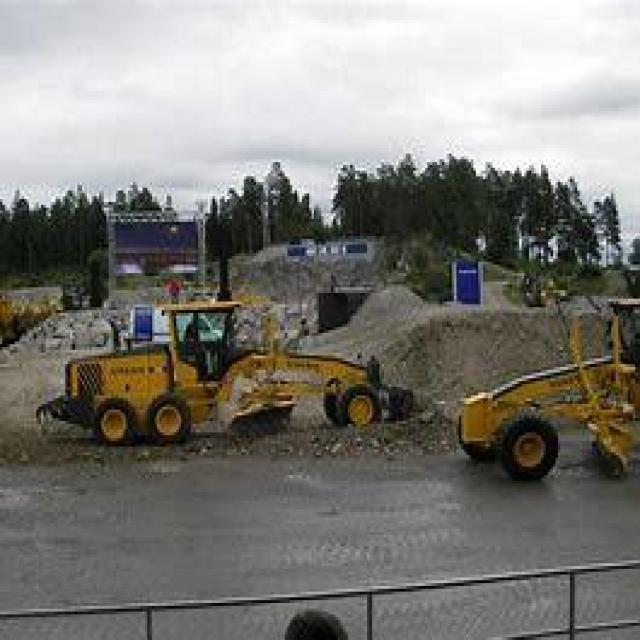Grader: (34, 290, 420, 452)
